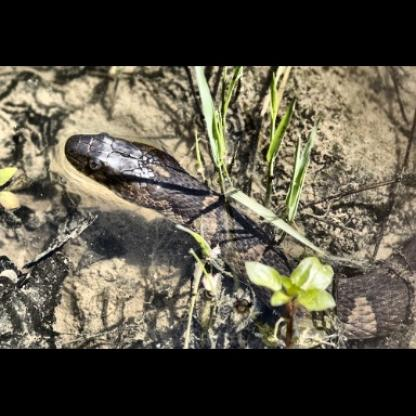Snake: (19, 119, 413, 332)
